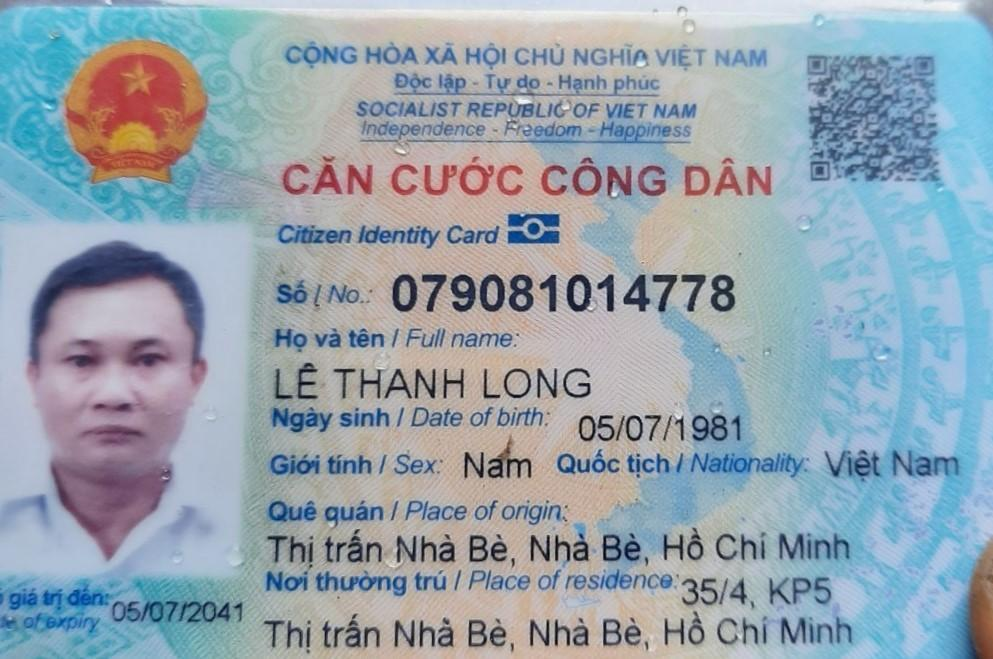ID: (386, 270, 744, 316)
birth: (570, 411, 755, 449)
name: (266, 364, 610, 404)
place: (259, 528, 852, 566)
residence: (263, 605, 857, 652), (679, 572, 844, 613)
